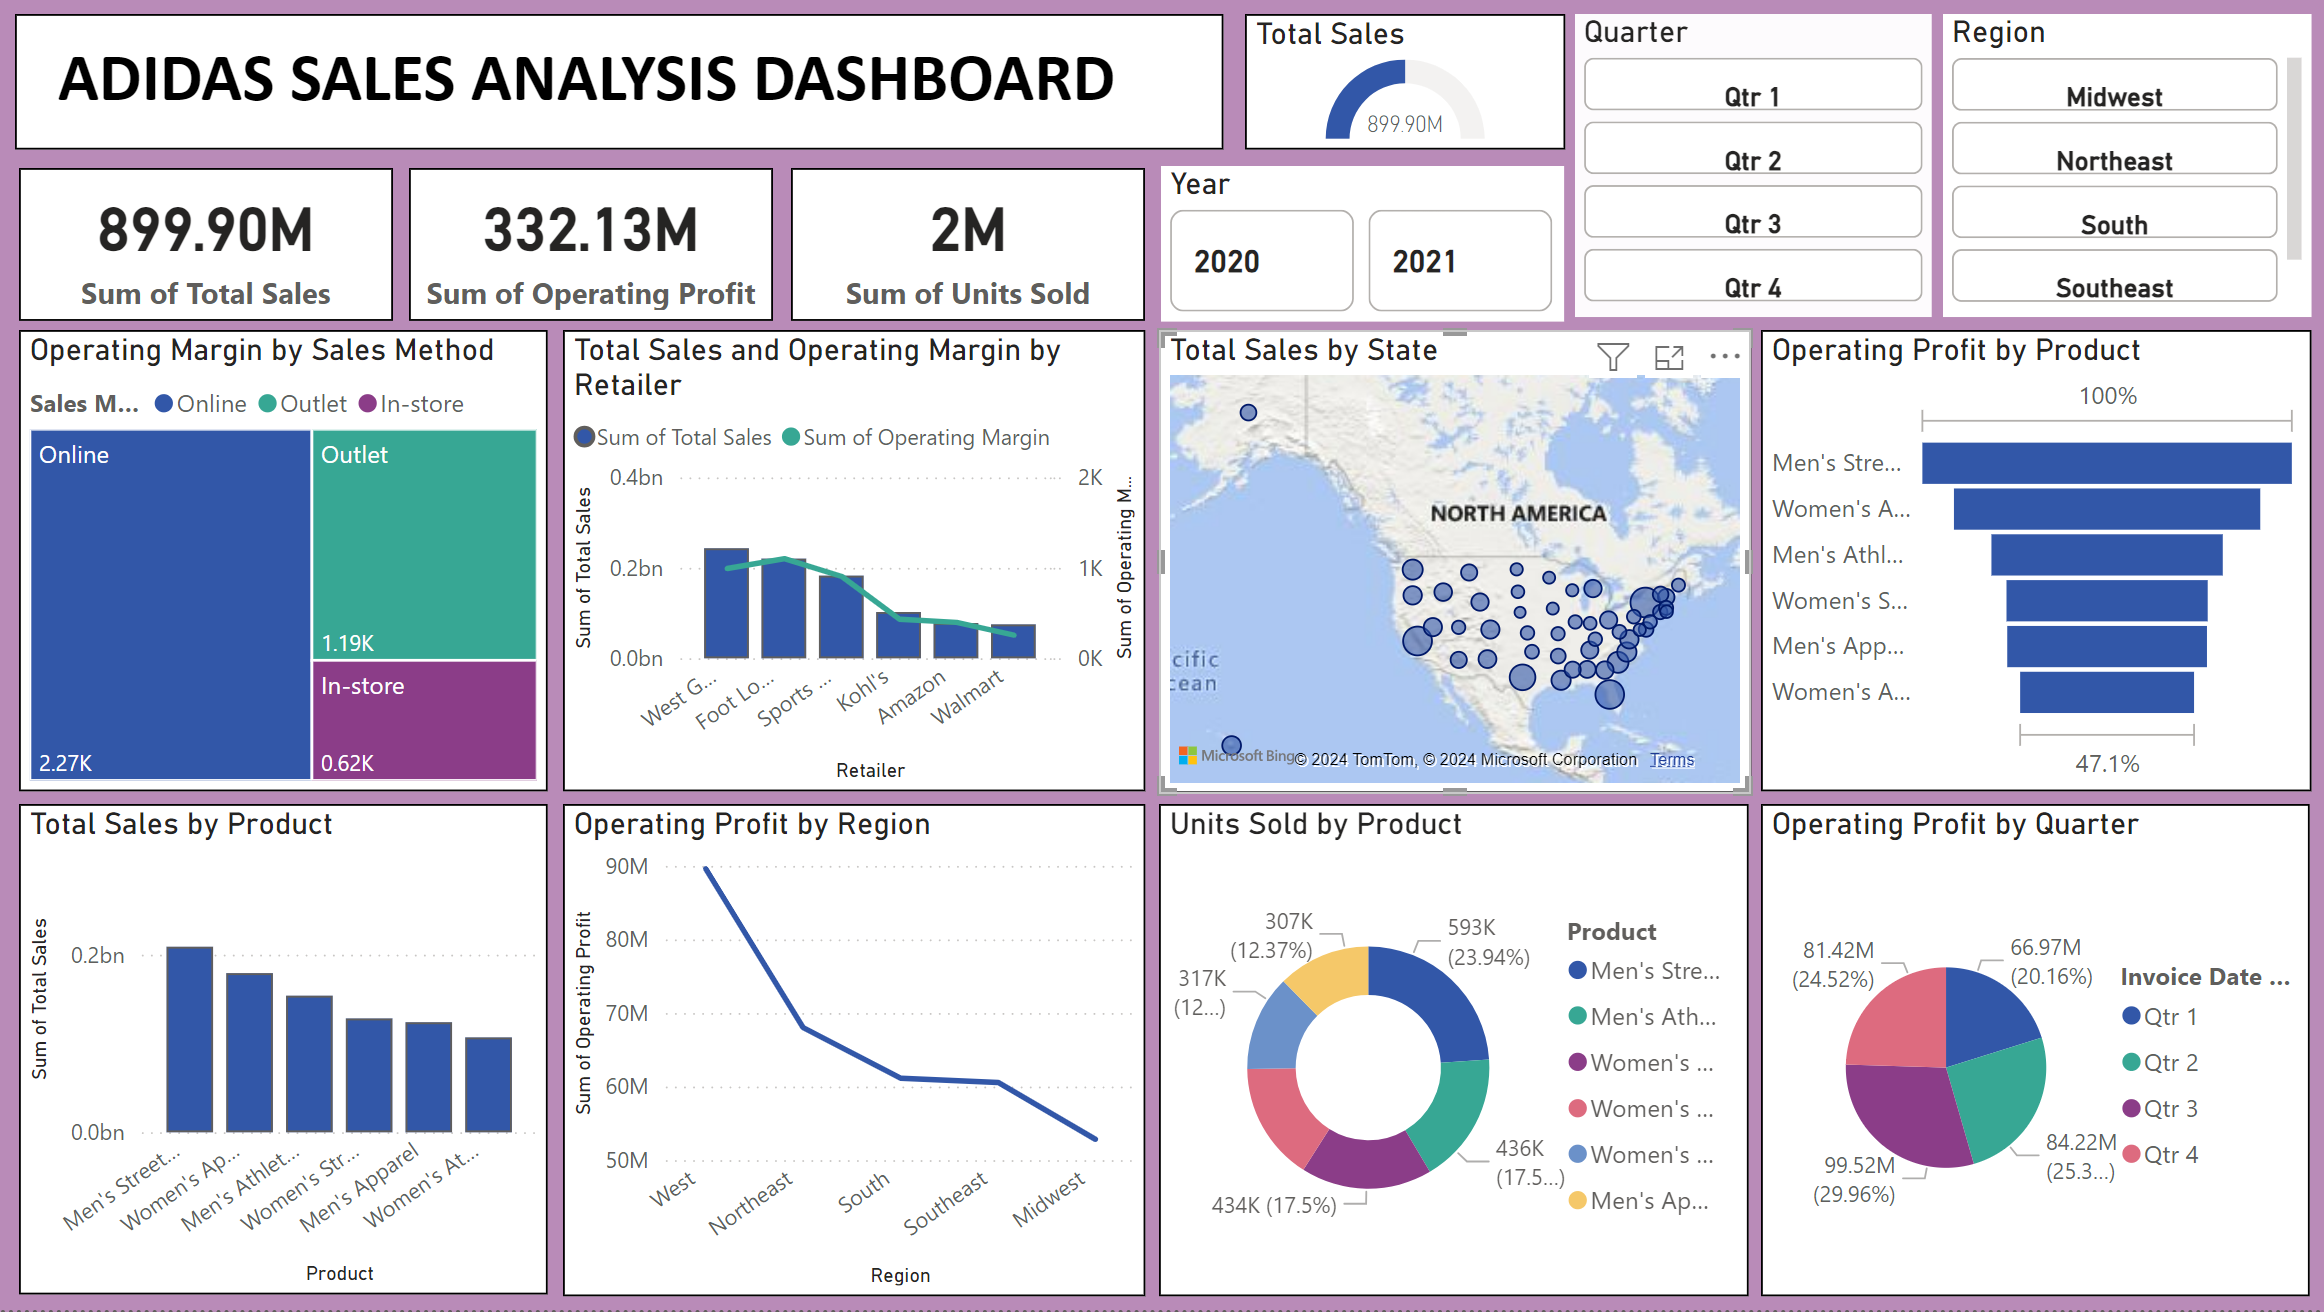

Layout of this report page (visuals, bound fields, positions):
{"tool":"powerbi","page":{"name":"Page 1","canvas":[1280,720],"ordinal":0},"visuals":[{"type":"columnChart","title":"Total Sales by Product","fields":{"Y":["Sum(Data Sales Adidas.Total Sales)"],"Category":["Data Sales Adidas.Product"]},"box":[12,441.3,290.7,269.3],"z":0},{"type":"lineChart","title":"Operating Profit by Region","fields":{"Category":["Data Sales Adidas.Region"],"Y":["Sum(Data Sales Adidas.Operating Profit)"]},"box":[310.7,441.3,320,270.7],"z":1000},{"type":"lineStackedColumnComboChart","title":" Total Sales and  Operating Margin by Retailer","fields":{"Y":["Sum(Data Sales Adidas.Total Sales)"],"Category":["Data Sales Adidas.Retailer"],"Y2":["Sum(Data Sales Adidas.Operating Margin)"]},"box":[310.7,181.3,320,253.3],"z":2000},{"type":"pieChart","title":"Operating Profit by Quarter","fields":{"Category":["Data Sales Adidas.Invoice Date.Variation.Date Hierarchy.Quarter"],"Y":["Sum(Data Sales Adidas.Operating Profit)"]},"box":[969.3,441.3,301.3,270.7],"z":3000},{"type":"map","title":" Total Sales by State","fields":{"Category":["Data Sales Adidas.State"],"Size":["Sum(Data Sales Adidas.Total Sales)"]},"box":[638.7,181.3,325.3,254.7],"z":4000},{"type":"donutChart","title":"Units Sold by Product","fields":{"Y":["Sum(Data Sales Adidas.Units Sold)"],"Category":["Data Sales Adidas.Product"]},"box":[638.7,441.3,324,270.7],"z":5000},{"type":"treemap","title":"Operating Margin by Sales Method","fields":{"Values":["Sum(Data Sales Adidas.Operating Margin)"],"Group":["Data Sales Adidas.Sales Method"]},"box":[12,181.3,290.7,253.3],"z":6000},{"type":"funnel","title":" Operating Profit by Product","fields":{"Category":["Data Sales Adidas.Product"],"Y":["Sum(Data Sales Adidas.Operating Profit)"]},"box":[969.3,181.3,302.7,253.3],"z":7000},{"type":"card","fields":{"Values":["Sum(Data Sales Adidas.Total Sales)"]},"box":[12,92,205.3,84],"z":8000},{"type":"card","fields":{"Values":["Sum(Data Sales Adidas.Units Sold)"]},"box":[436,92,194.7,84],"z":9000},{"type":"card","fields":{"Values":["Sum(Data Sales Adidas.Operating Profit)"]},"box":[226.7,92,200,84],"z":10000},{"type":"advancedSlicerVisual","fields":{"Values":["Data Sales Adidas.Invoice Date.Variation.Date Hierarchy.Year"]},"box":[640,90.7,221.3,85.3],"z":11000},{"type":"textbox","box":[10,8,664,74.7],"z":12000},{"type":"advancedSlicerVisual","fields":{"Values":["Data Sales Adidas.Region"]},"box":[1069.3,8,202.7,166.7],"z":13000},{"type":"gauge","title":"Total Sales","fields":{"Y":["Sum(Data Sales Adidas.Total Sales)"]},"box":[685.3,8,176,74.7],"z":14000},{"type":"advancedSlicerVisual","fields":{"Values":["Data Sales Adidas.Invoice Date.Variation.Date Hierarchy.Quarter"]},"box":[866.7,8,196,166.7],"z":15000}]}

Visuals, with their boxes in screenshot pixels (x1, y1, x2, y2), scaled from the page's 1280x720 canvas onto the 2324x1312 screenshot:
"Total Sales by Product" columnChart: left=22, top=804, right=550, bottom=1295
"Operating Profit by Region" lineChart: left=564, top=804, right=1145, bottom=1297
" Total Sales and  Operating Margin by Retailer" lineStackedColumnComboChart: left=564, top=330, right=1145, bottom=792
"Operating Profit by Quarter" pieChart: left=1760, top=804, right=2307, bottom=1297
" Total Sales by State" map: left=1160, top=330, right=1750, bottom=794
"Units Sold by Product" donutChart: left=1160, top=804, right=1748, bottom=1297
"Operating Margin by Sales Method" treemap: left=22, top=330, right=550, bottom=792
" Operating Profit by Product" funnel: left=1760, top=330, right=2309, bottom=792
card - Sum(Data Sales Adidas.Total Sales): left=22, top=168, right=395, bottom=321
card - Sum(Data Sales Adidas.Units Sold): left=792, top=168, right=1145, bottom=321
card - Sum(Data Sales Adidas.Operating Profit): left=412, top=168, right=775, bottom=321
advancedSlicerVisual - Data Sales Adidas.Invoice Date.Variation.Date Hierarchy.Year: left=1162, top=165, right=1564, bottom=321
textbox: left=18, top=15, right=1224, bottom=151
advancedSlicerVisual - Data Sales Adidas.Region: left=1941, top=15, right=2309, bottom=318
"Total Sales" gauge: left=1244, top=15, right=1564, bottom=151
advancedSlicerVisual - Data Sales Adidas.Invoice Date.Variation.Date Hierarchy.Quarter: left=1574, top=15, right=1929, bottom=318
